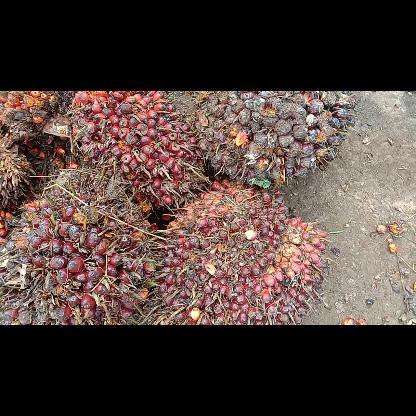Kurang masak: (190, 91, 360, 189)
TBS masak: (154, 176, 330, 324), (0, 166, 160, 324), (64, 91, 212, 219)
